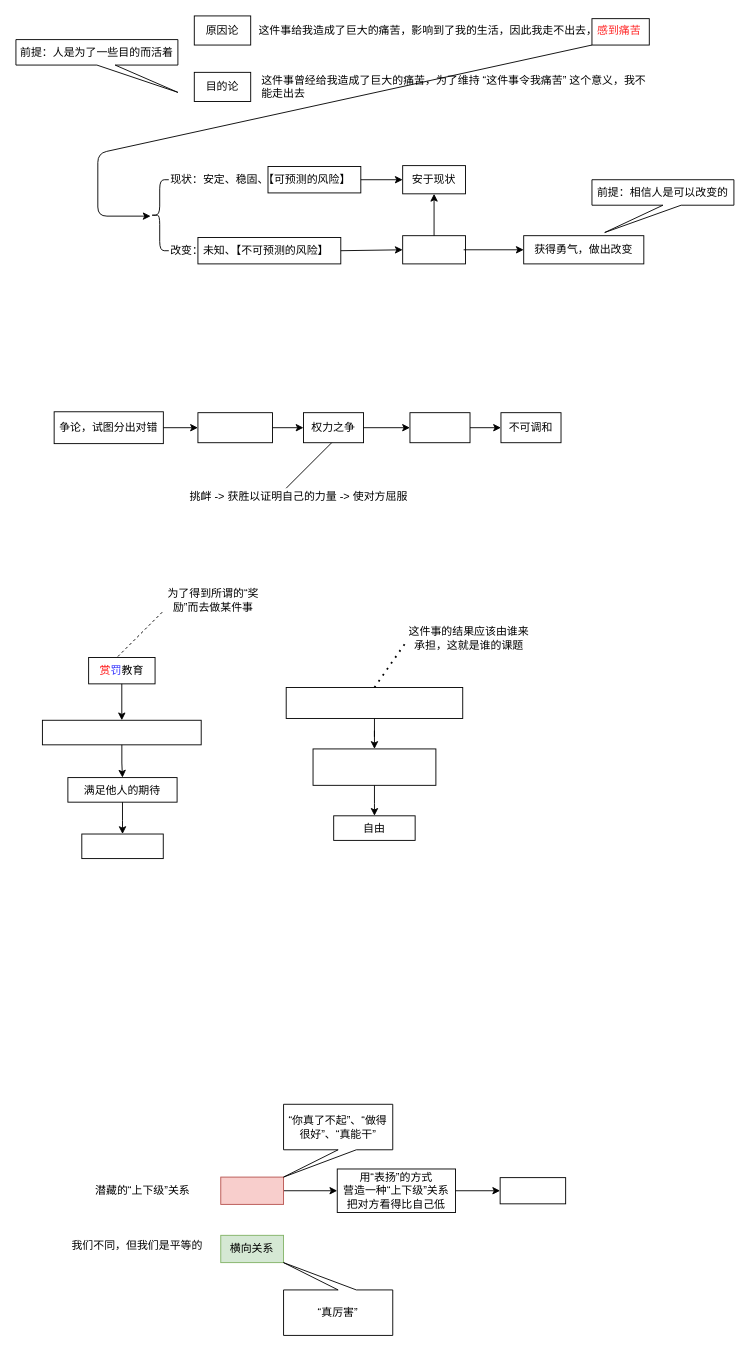
The diagram is 750 pixels wide and 1351 high, and some of its shapes have lost their labels. The box of each missing label's shape, as (x1, y1, x2, y2) in pixels:
不需要他人的认可， 不在意别人的评价: (312, 748, 436, 785)
为他人而活: (81, 833, 163, 859)
使人会习惯性地寻求他人的认可: (41, 719, 201, 745)
复仇: (409, 412, 470, 443)
恐惧: (402, 235, 465, 264)
意图分出胜负: (197, 412, 273, 443)
操纵对方: (499, 1177, 566, 1204)
纵向关系: (220, 1176, 284, 1204)
课题 分离原则：放下别人的“课题”: (285, 687, 463, 718)
